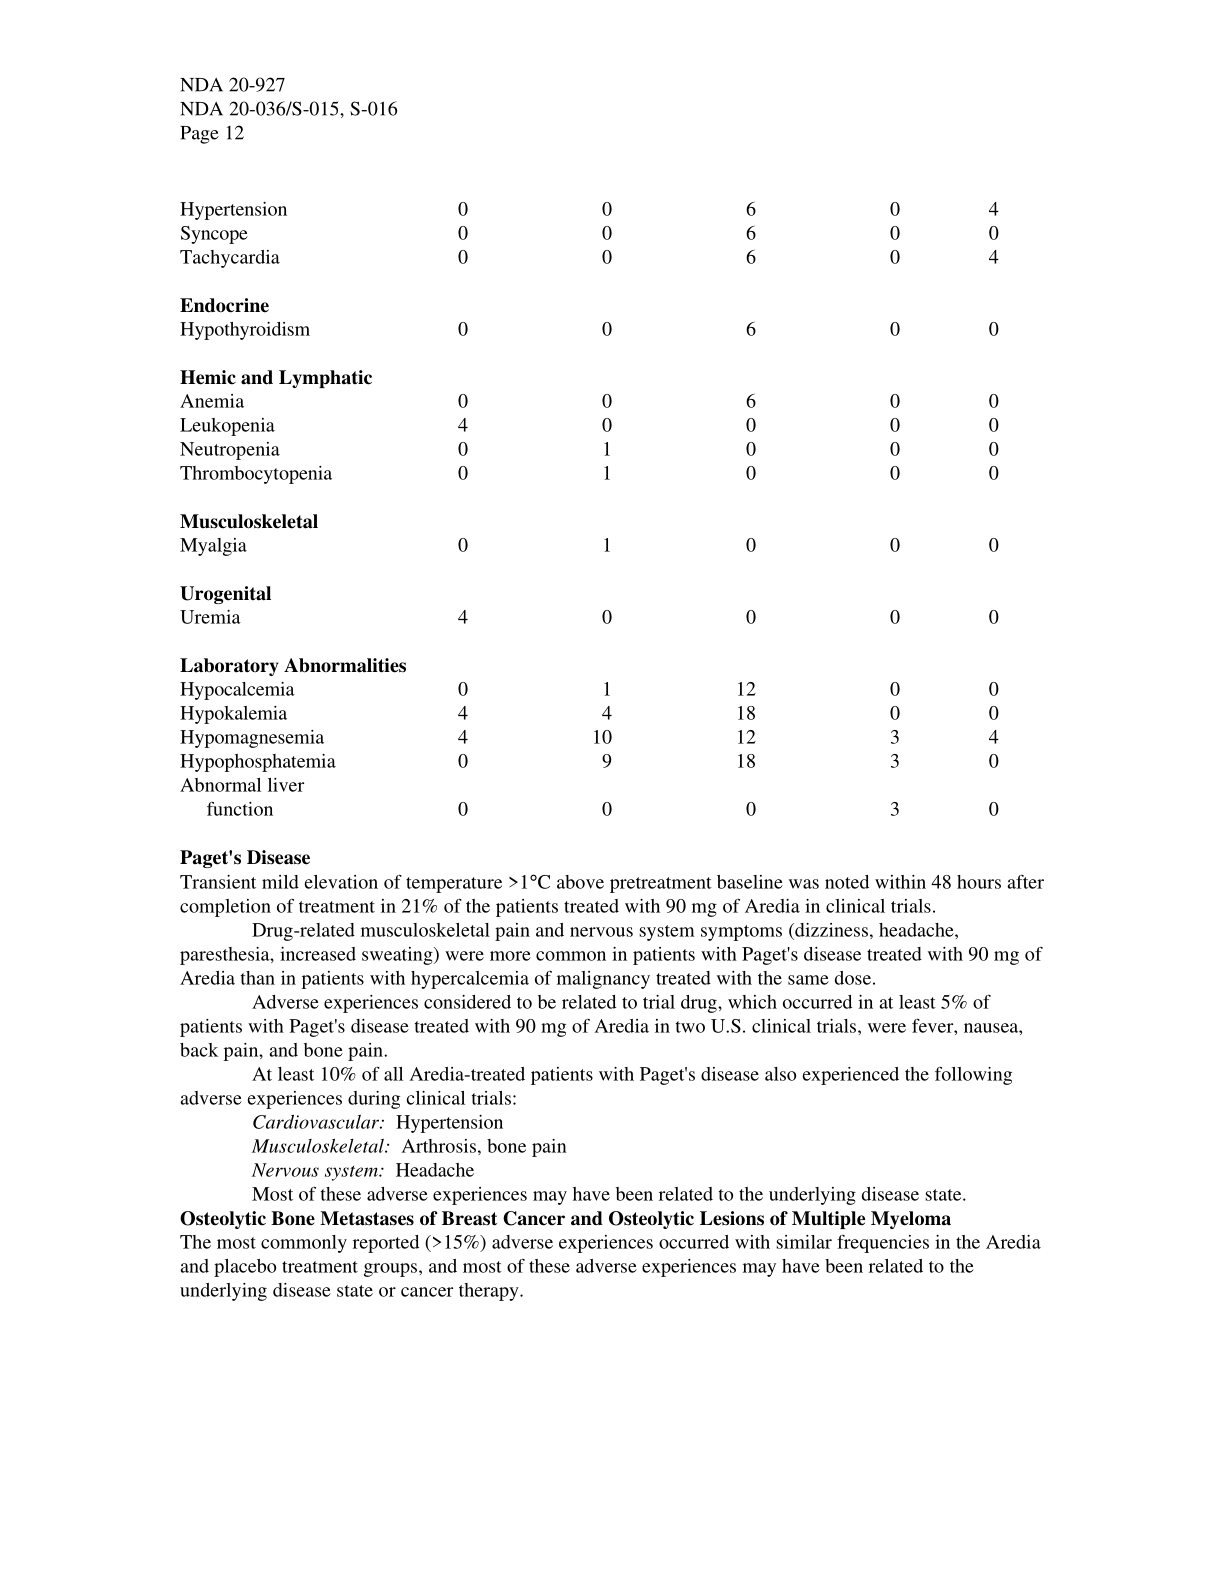nolines: (177, 193, 1005, 825)
